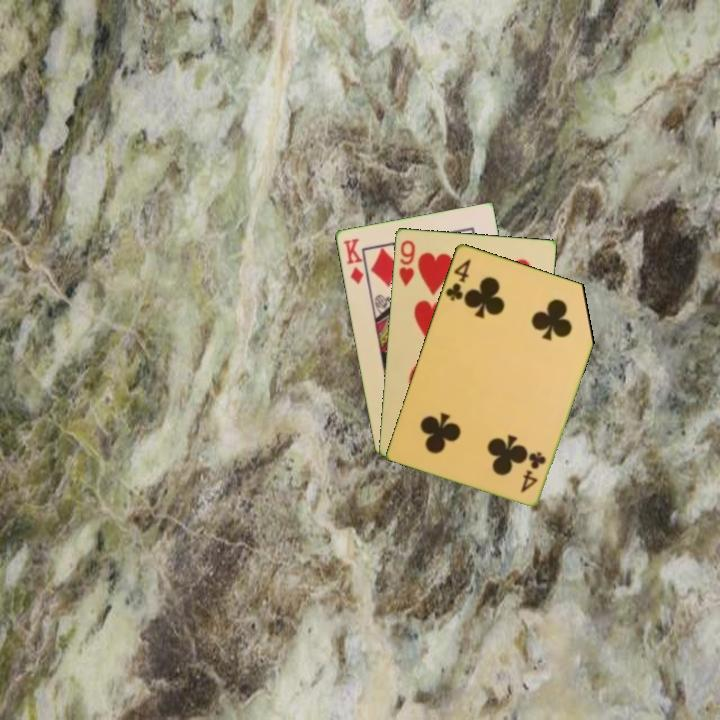4c: (442, 255, 474, 303), (517, 447, 549, 495)
9h: (395, 236, 418, 289)
Kd: (339, 234, 366, 287)
